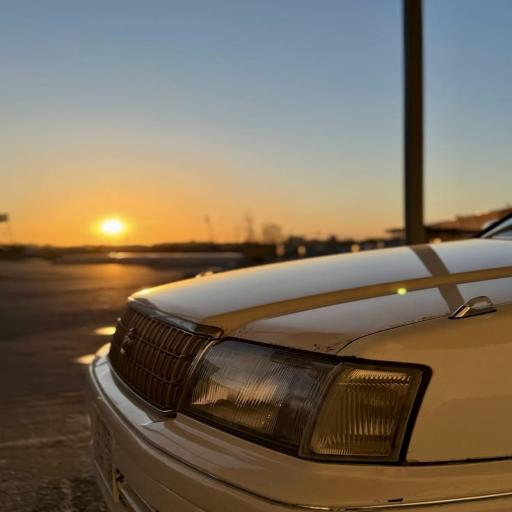book: (89, 216, 512, 512)
elevator: (403, 0, 426, 245)
